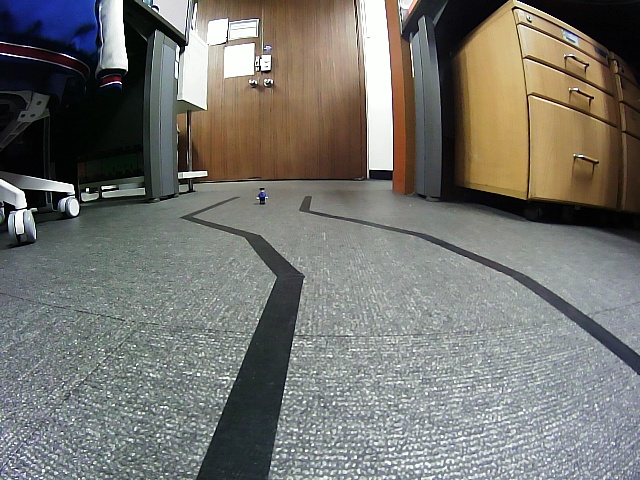person: (256, 187, 269, 204)
